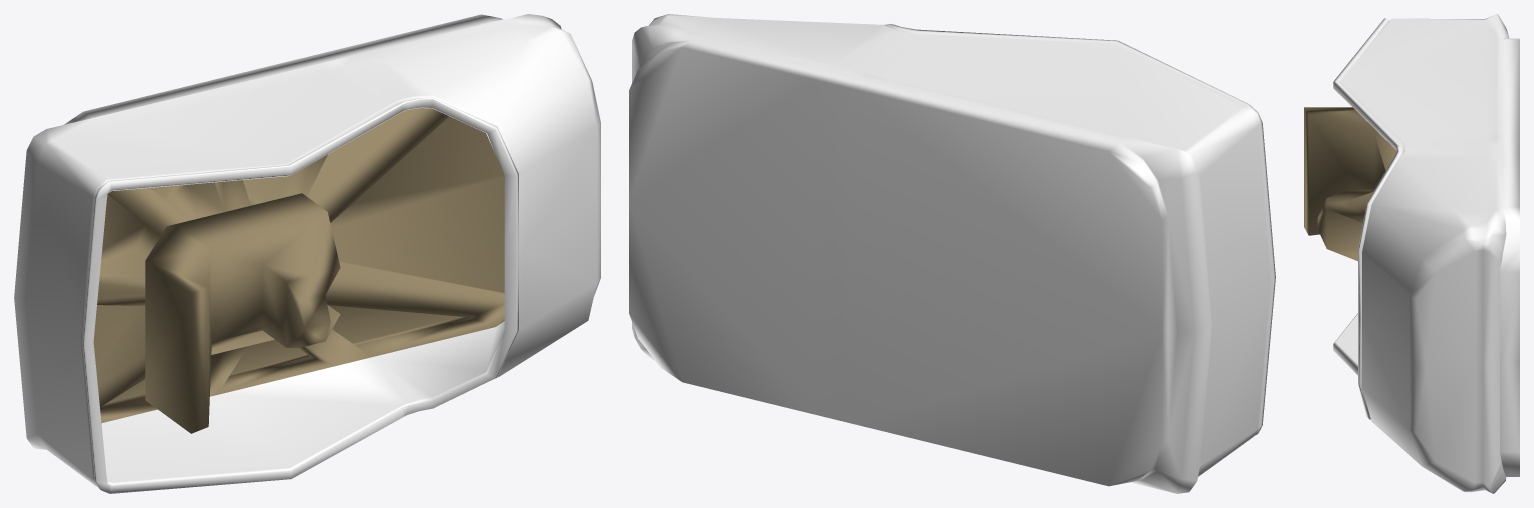
File: foot.obj
The picture shows the model from 3 angles, left to right: view 1: azimuth 30°, elevation 25°; view 2: azimuth 150°, elevation 25°; view 3: azimuth 270°, elevation 25°; orthographic projection. The views are drawn at different scales.
Bounding box in the file's own units: 0.2782 × 0.1569 × 0.1109.
1 material, 1 textured.
